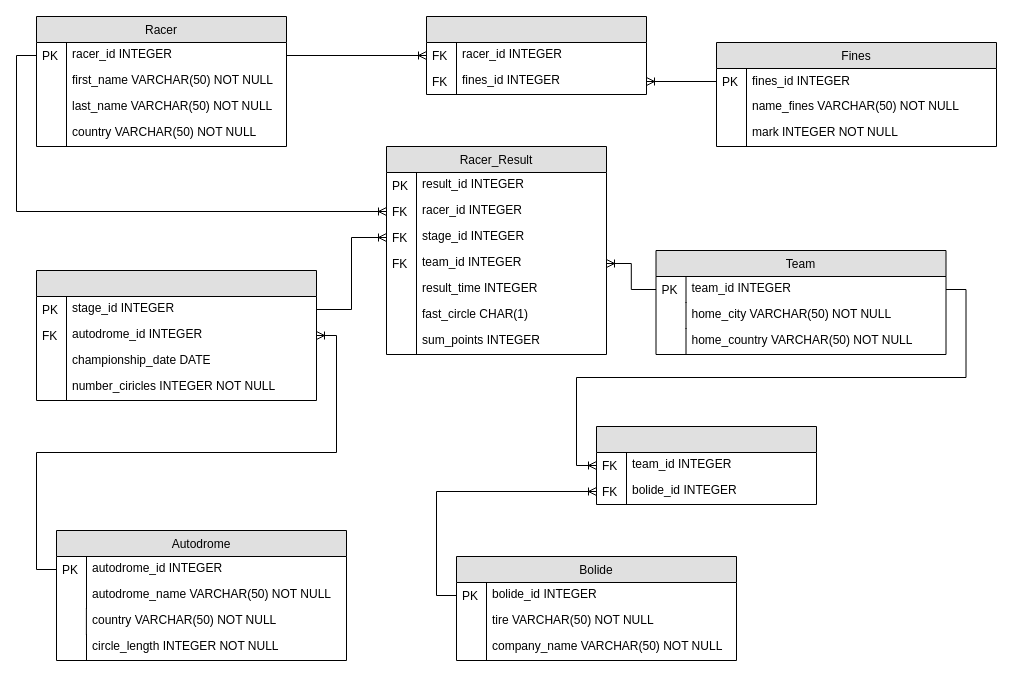
Image size: 1013x677. Some labels were removed from this diagram. Each missing label, with the box of its shape:
Grand_Prix: (36, 270, 316, 400)
Racer_Fines: (426, 16, 646, 94)
Team_Bolide: (596, 426, 816, 504)
